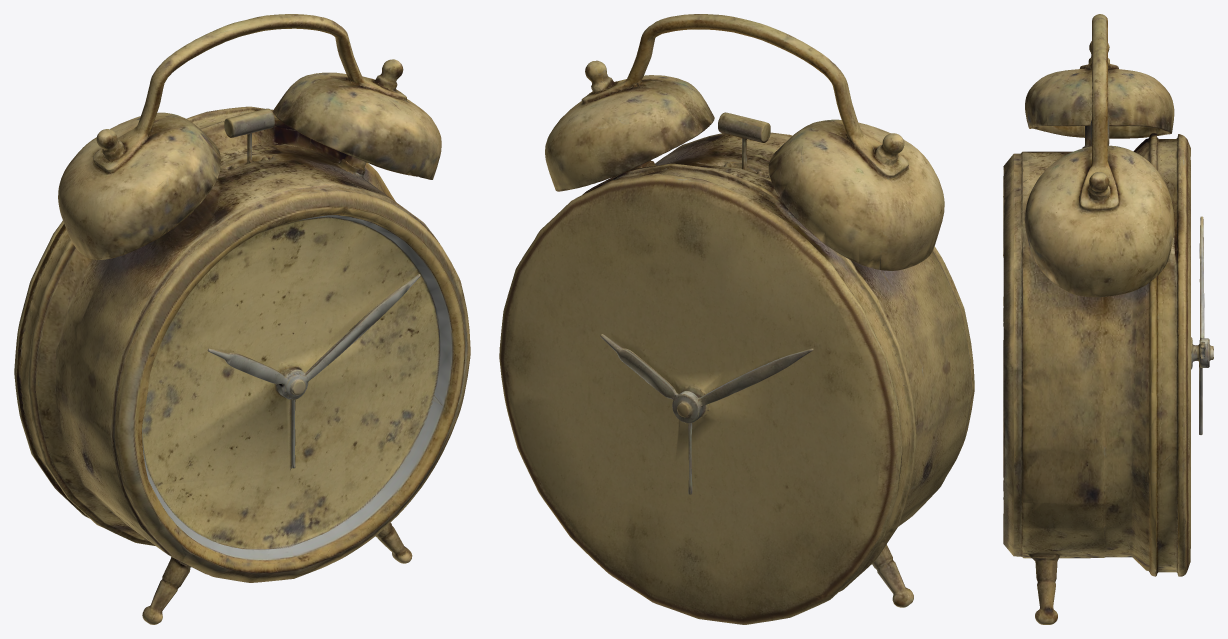
File: prop-clock.glb
3 views of the same model, side by side, from view 1: azimuth 30°, elevation 25°; view 2: azimuth 150°, elevation 25°; view 3: azimuth 270°, elevation 25° (orthographic). The views are drawn at different scales.
Visible parts, largest first — view 1: Mesh_0; view 2: Mesh_0; view 3: Mesh_0.
Boxes of the visible parts, <box> form: Mesh_0: <box>14,14,470,624</box>; Mesh_0: <box>499,14,974,624</box>; Mesh_0: <box>1003,14,1213,624</box>.
Bounding box in the file's own units: 1.39 × 1.9 × 0.6828.
Materials: 1 (1 with a texture image).
